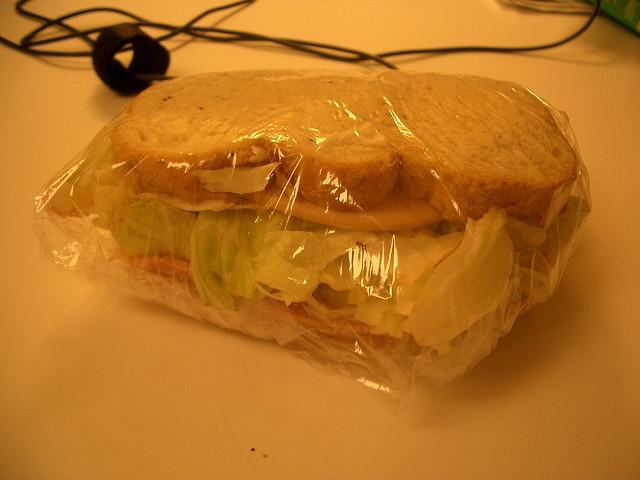lettuce: (406, 205, 514, 354), (252, 242, 374, 308), (49, 134, 120, 212), (250, 230, 356, 272), (120, 213, 190, 250), (370, 310, 405, 338), (208, 225, 222, 278)
